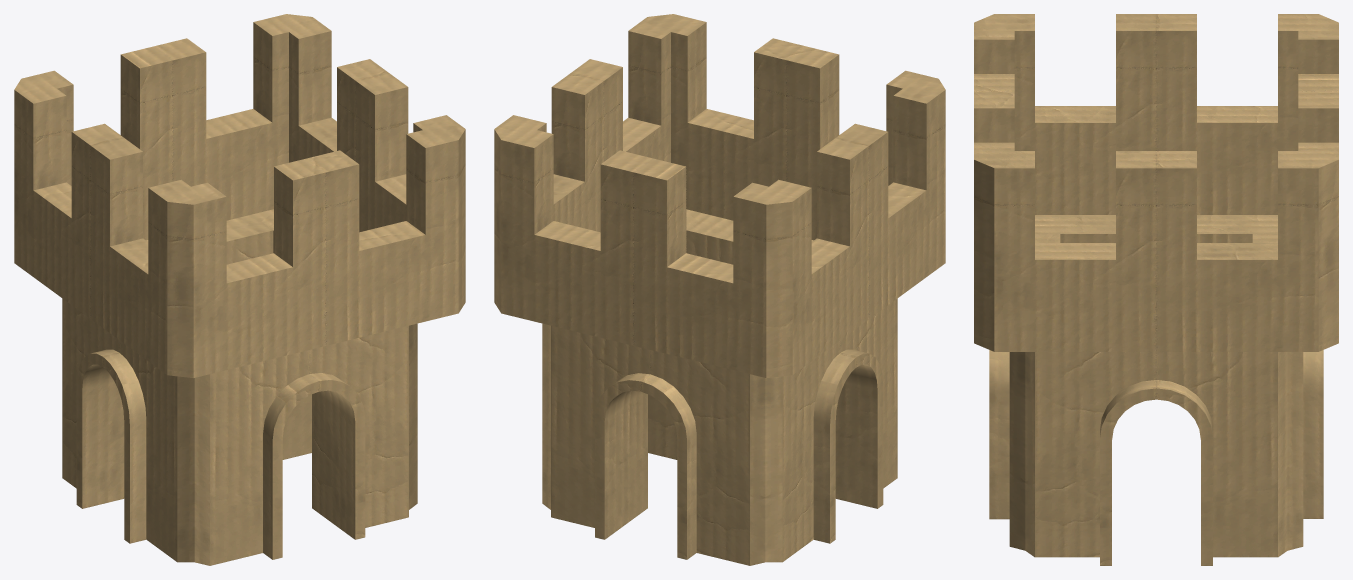
Rendered from rook-tiny-lines.obj.
3 renders of one model, left to right at view 1: azimuth 30°, elevation 25°; view 2: azimuth 150°, elevation 25°; view 3: azimuth 270°, elevation 25°, orthographic. The views are drawn at different scales.
Parts seen in each view (by area): view 1: battlement_corner_6, battlement_corner_7, wall_doorwayRound_2, wall_doorwayRound_1, wall_doorwayRound_0, wall_doorwayRound_3; view 2: battlement_corner_7, battlement_corner_6, wall_doorwayRound_3, wall_doorwayRound_1, wall_doorwayRound_0, wall_doorwayRound_2; view 3: battlement_corner_6, wall_doorwayRound_0, battlement_corner_7, wall_doorwayRound_2, wall_doorwayRound_3, wall_doorwayRound_1.
Boxes of the visible parts, x1,y1,x2,y2 form: battlement_corner_6: (167, 14, 465, 378); battlement_corner_7: (14, 14, 310, 374); wall_doorwayRound_2: (194, 325, 408, 565); wall_doorwayRound_1: (62, 298, 194, 562); wall_doorwayRound_0: (261, 212, 417, 509); wall_doorwayRound_3: (146, 209, 273, 264); battlement_corner_7: (497, 79, 945, 378); battlement_corner_6: (494, 14, 945, 312); wall_doorwayRound_3: (551, 325, 765, 565); wall_doorwayRound_1: (765, 298, 897, 562); wall_doorwayRound_0: (542, 212, 698, 509); wall_doorwayRound_2: (686, 209, 813, 264); battlement_corner_6: (974, 14, 1338, 351); wall_doorwayRound_0: (1025, 352, 1287, 565); battlement_corner_7: (975, 14, 1338, 214); wall_doorwayRound_2: (989, 222, 1060, 550); wall_doorwayRound_3: (1252, 221, 1323, 550); wall_doorwayRound_1: (1035, 215, 1277, 242).
Bounding box in the file's own units: 0.9 × 1.1 × 0.9.
2 materials, 2 textured.
